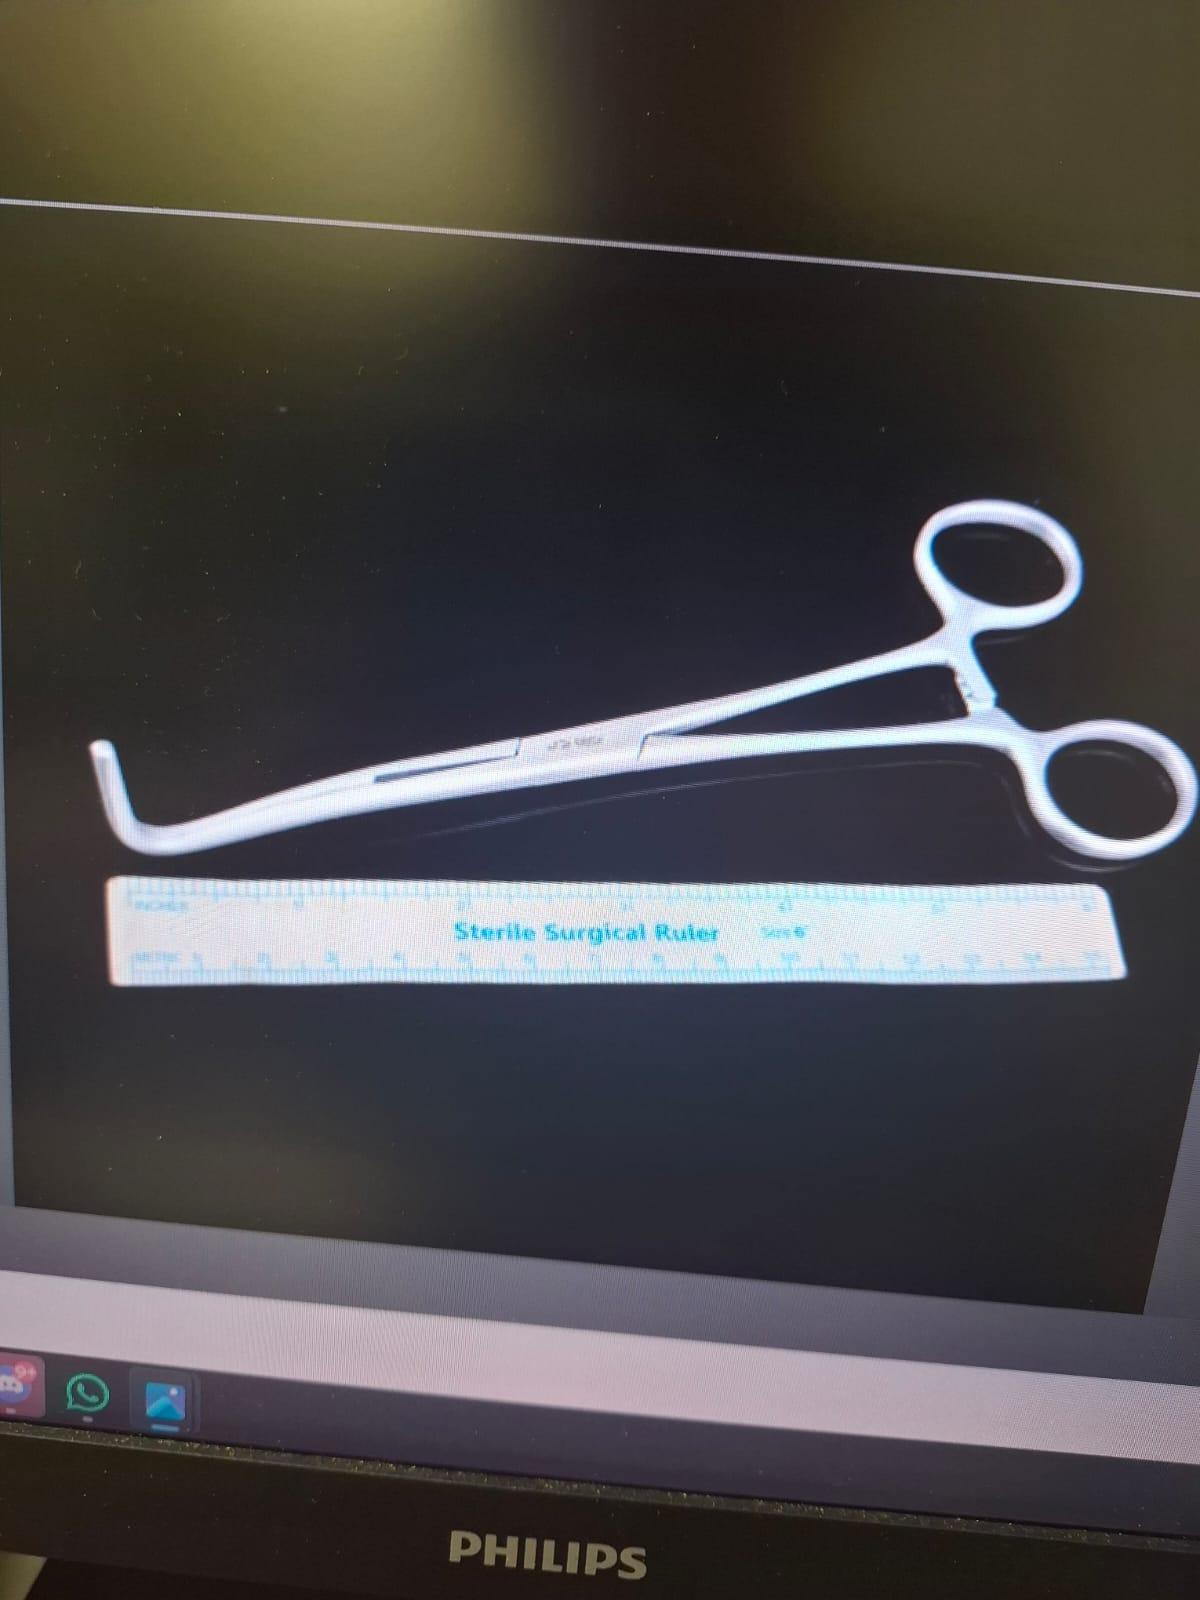Rectangle Cholecystectomy Forceps: (75, 485, 1200, 890)
